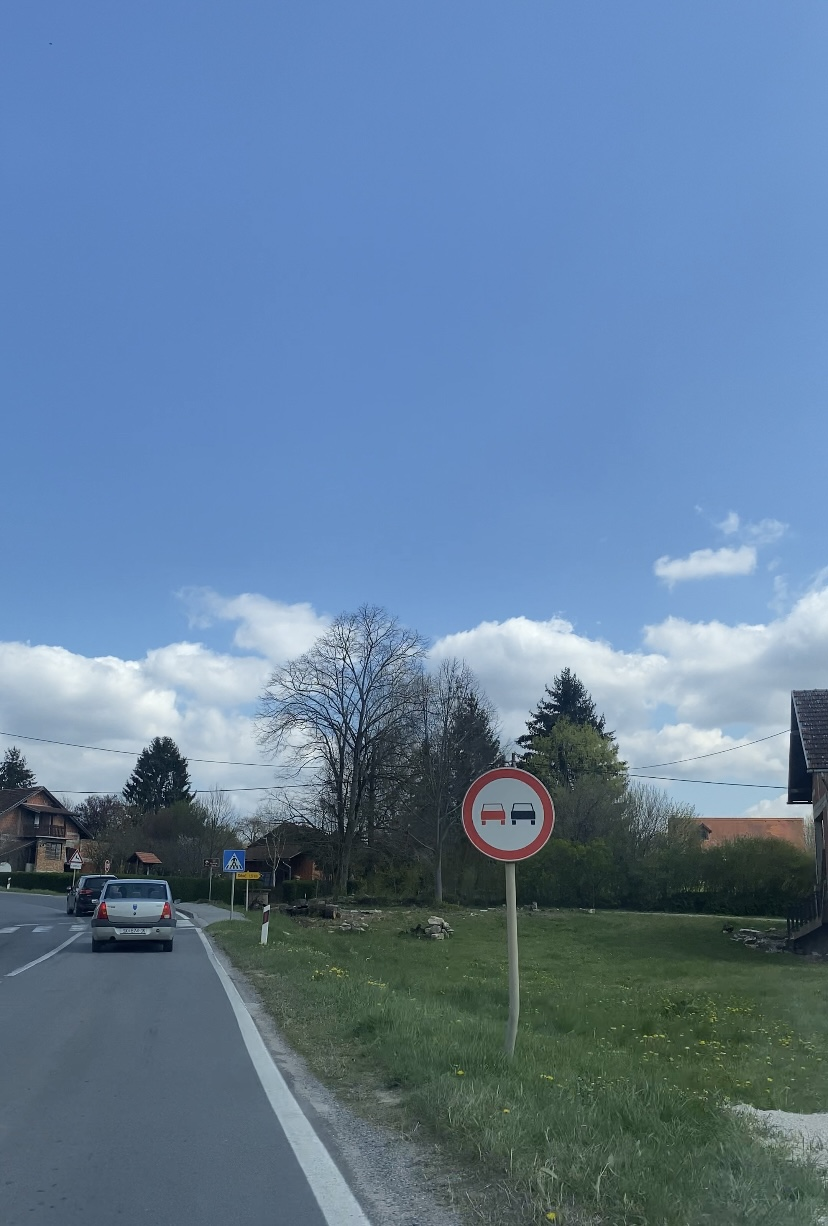Pješački prijelaz: (223, 850, 245, 873)
Zabrana pretjecanja: (461, 767, 556, 862)
